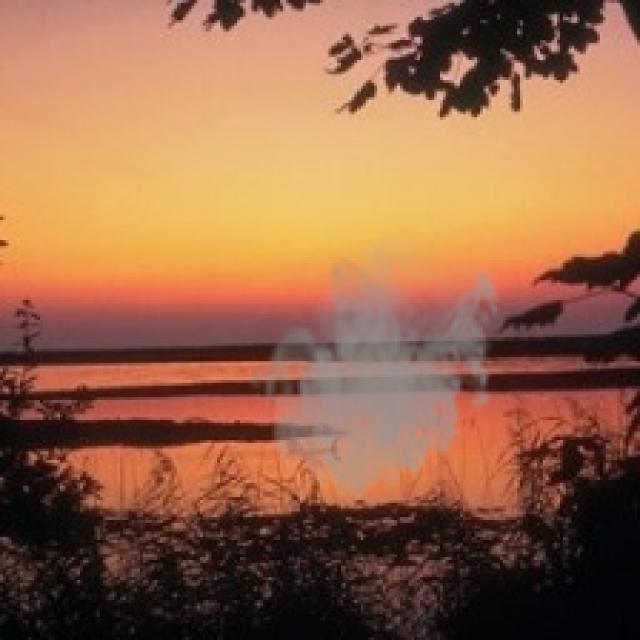smoke: (245, 228, 506, 508)
